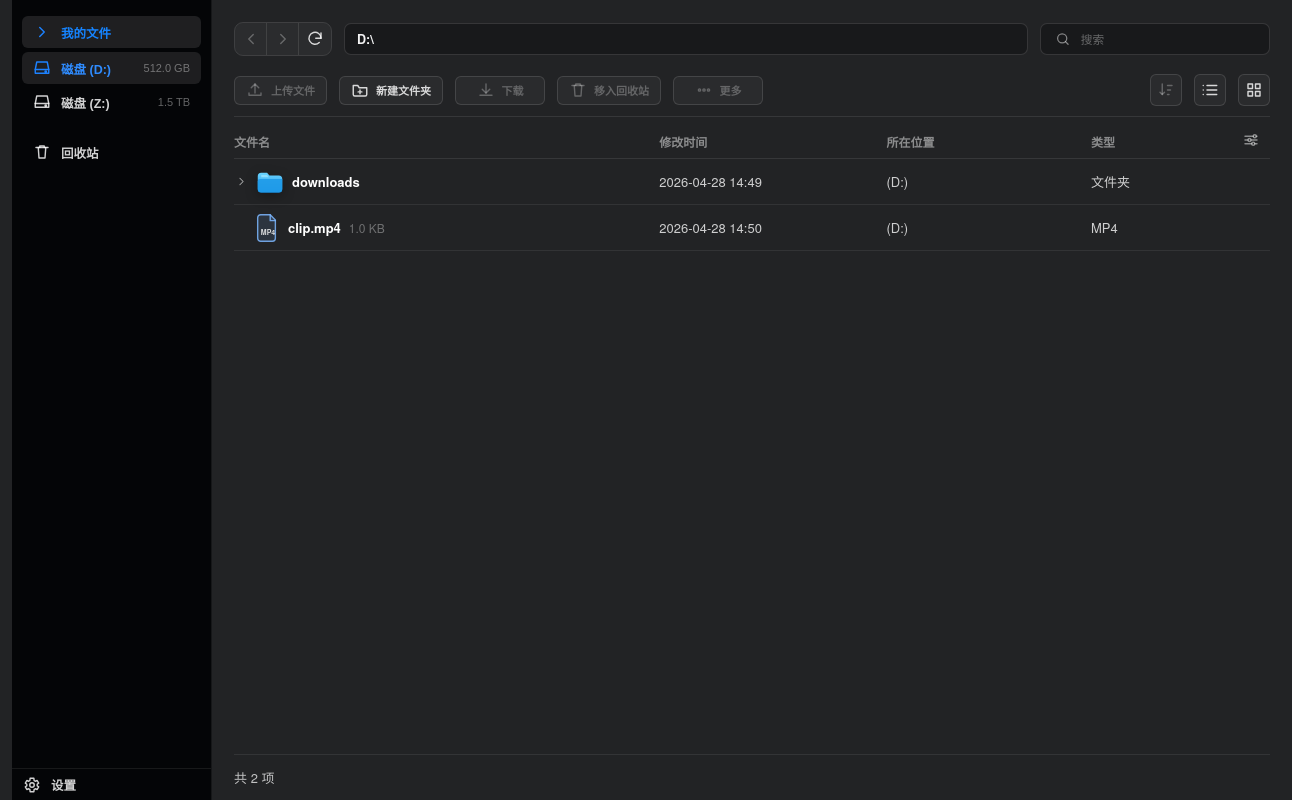
Test: FileManagerApp › switches to another backend disk from the sidebar
Click the text "磁盘 (Z:)" at [85, 104], box [61,96,110,110]
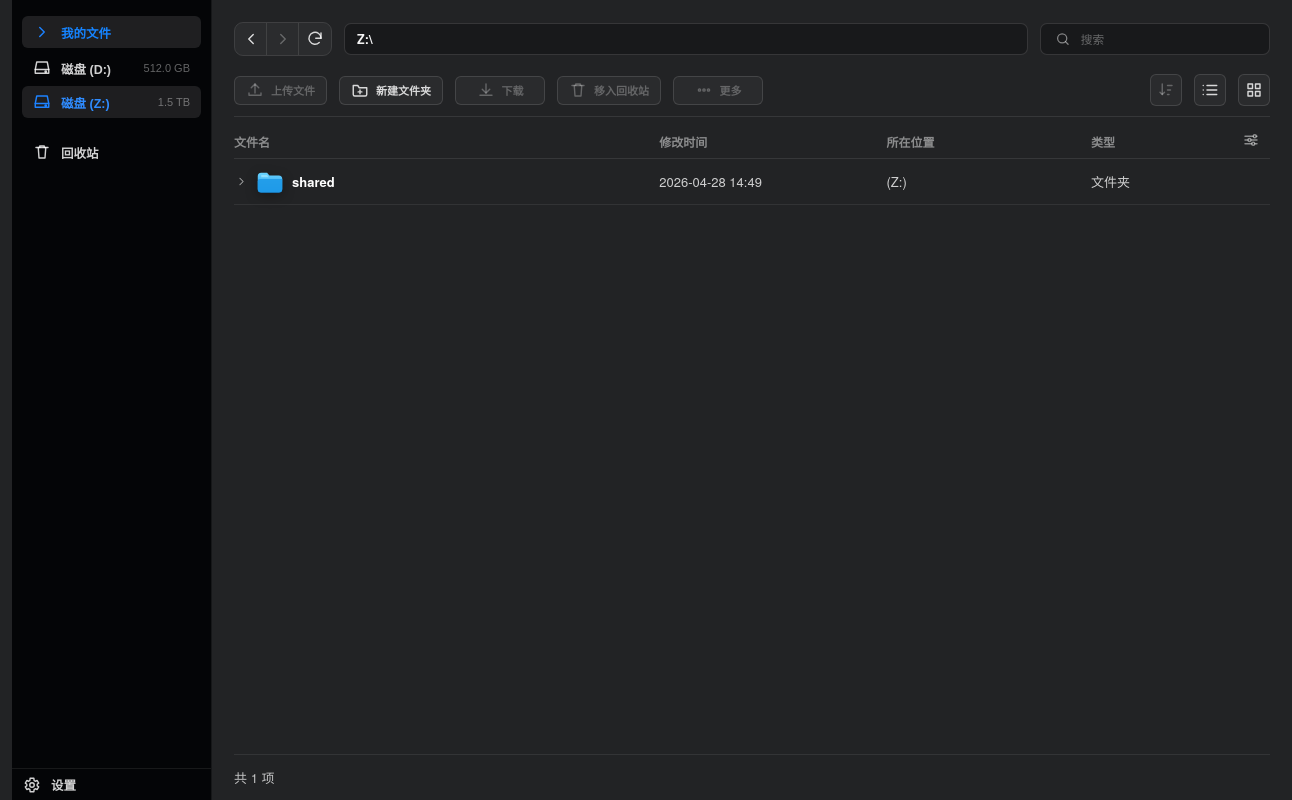
Expected: the text "shared" is shown, [292,172,335,191]
